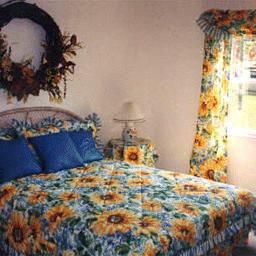Cama: (5, 125, 252, 254)
